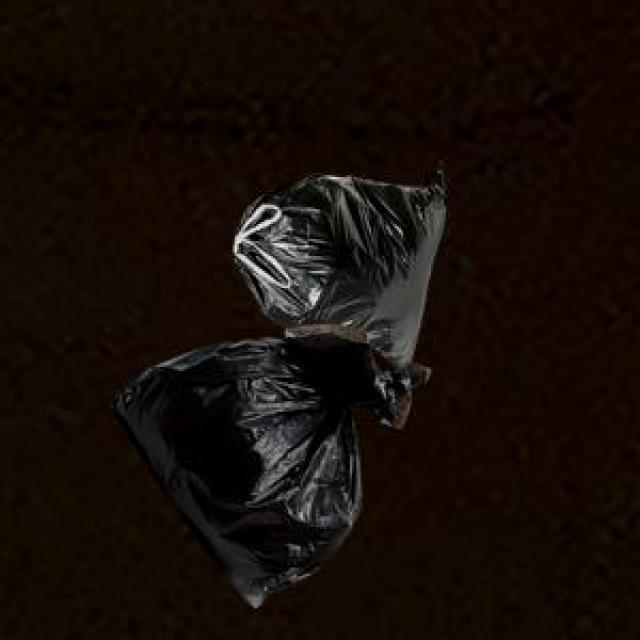Trashbag: (108, 336, 396, 606), (231, 152, 451, 372)
